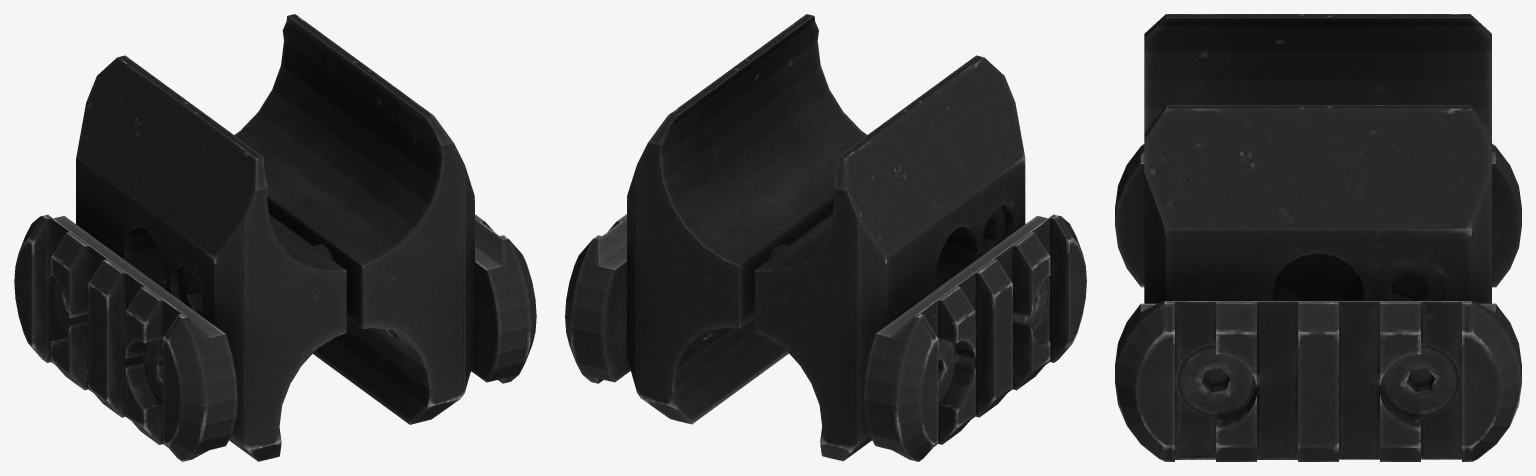
The picture shows the model from 3 angles, left to right: view 1: azimuth 30°, elevation 25°; view 2: azimuth 150°, elevation 25°; view 3: azimuth 270°, elevation 25°; orthographic projection. The views are drawn at different scales.
Visible parts, largest first — view 1: TW_5a789261c5856700186c65d3_PZ_Import; view 2: TW_5a789261c5856700186c65d3_PZ_Import; view 3: TW_5a789261c5856700186c65d3_PZ_Import.
Part boxes in pixels (x1,y1,x2,y2): TW_5a789261c5856700186c65d3_PZ_Import: (14, 14, 536, 461); TW_5a789261c5856700186c65d3_PZ_Import: (565, 14, 1086, 461); TW_5a789261c5856700186c65d3_PZ_Import: (1115, 14, 1521, 461).
Bounding box in the file's own units: 0.031 × 0.028 × 0.0253.
Materials: 1 (1 with a texture image).
